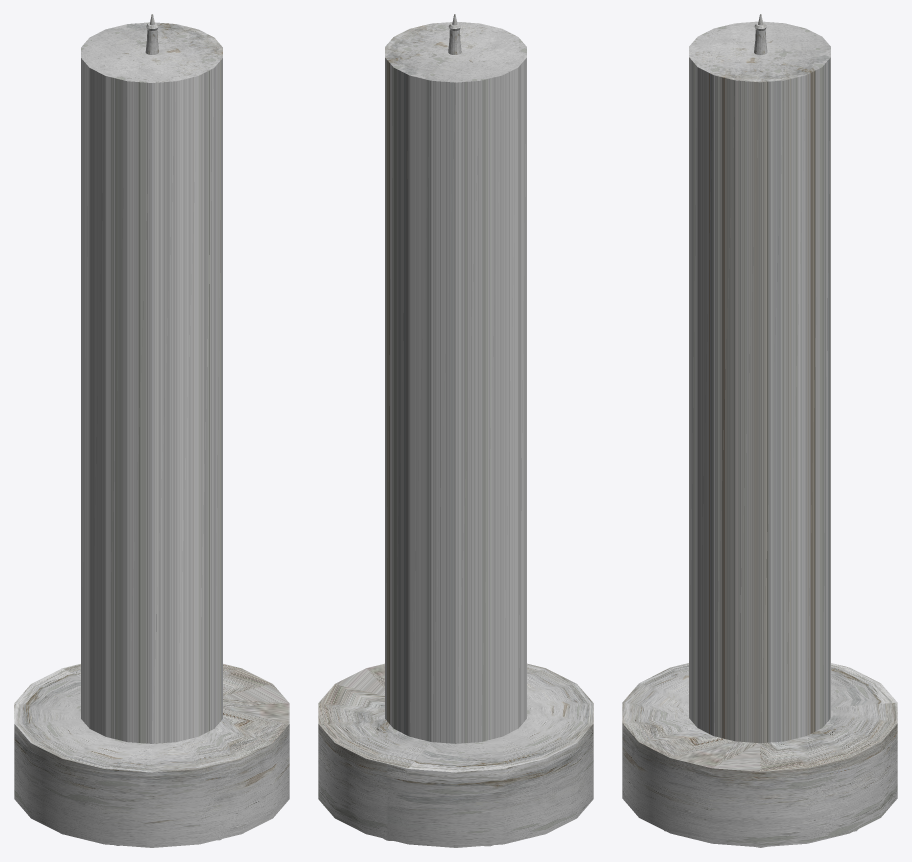
File: dick.obj
3 renders of one model, left to right at view 1: azimuth 30°, elevation 25°; view 2: azimuth 150°, elevation 25°; view 3: azimuth 270°, elevation 25°, orthographic.
Parts seen in each view (by area): view 1: Cylinder003; view 2: Cylinder003; view 3: Cylinder003.
Part boxes in pixels (<box>): Cylinder003: <box>14,22,289,847</box>; Cylinder003: <box>318,22,593,847</box>; Cylinder003: <box>622,21,897,847</box>.
Bounding box in the file's own units: 236 × 722 × 232.
